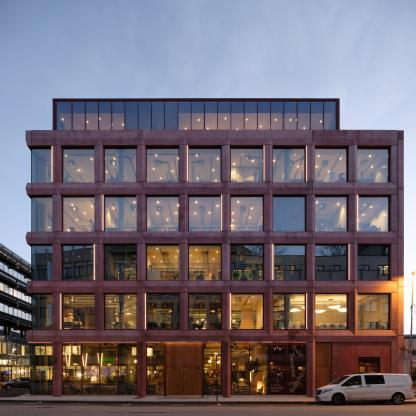Building Outline: (25, 98, 404, 397)
Dont: (314, 371, 415, 406)
Door: (168, 367, 200, 397)
Facade: (31, 131, 404, 398)
Floor: (31, 140, 404, 186), (31, 240, 404, 284), (31, 289, 404, 333), (31, 191, 407, 234)
Floor Slab: (27, 234, 404, 240), (27, 185, 404, 191), (26, 134, 404, 139), (27, 333, 404, 338), (27, 284, 404, 289)
Glass Wall: (57, 101, 336, 130), (62, 343, 138, 396), (231, 343, 307, 396), (358, 145, 391, 183), (62, 145, 95, 183), (104, 145, 137, 183), (146, 145, 179, 183), (189, 145, 222, 183), (231, 145, 264, 183), (273, 145, 306, 183), (316, 145, 349, 183), (358, 293, 391, 330), (62, 293, 95, 330), (104, 293, 137, 330), (146, 293, 179, 330), (189, 293, 222, 330), (231, 293, 264, 330), (273, 293, 306, 330), (316, 293, 349, 330), (358, 194, 391, 231), (62, 194, 95, 231), (104, 194, 137, 231), (146, 194, 179, 231), (189, 194, 222, 231), (231, 194, 264, 231), (273, 194, 306, 231), (316, 194, 349, 231), (358, 243, 391, 280), (62, 243, 95, 280), (104, 243, 137, 280), (146, 243, 179, 280), (189, 243, 222, 280), (231, 243, 264, 280), (273, 243, 306, 280), (316, 243, 349, 280), (31, 343, 52, 396), (146, 343, 164, 396), (204, 343, 222, 396), (31, 191, 53, 231), (358, 357, 381, 395), (31, 293, 53, 330), (31, 145, 52, 183), (31, 243, 52, 280), (316, 367, 332, 396)
Ground Floor: (31, 339, 404, 397)
Top Floor: (53, 98, 339, 134)
